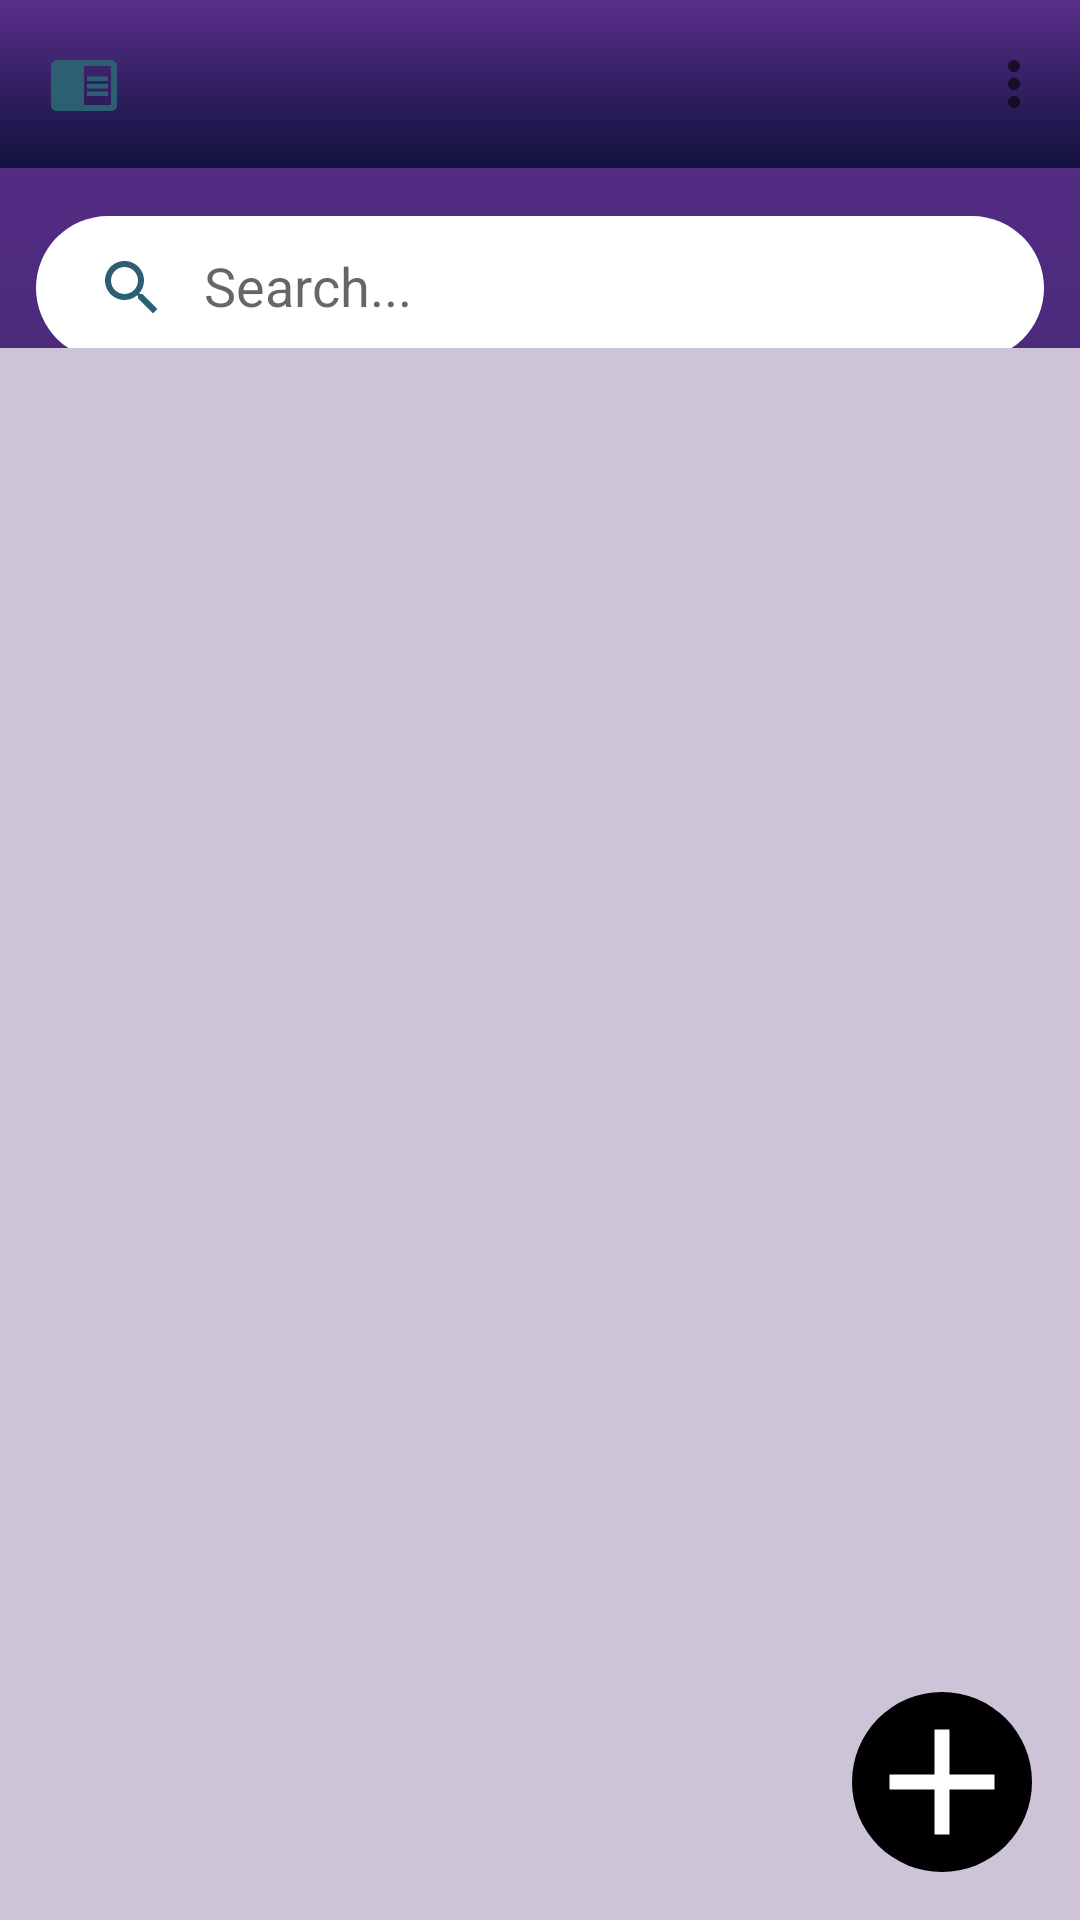

Where icons sit on this 1080px×1920px app screen, as bbox=(x1, y1, x2, y2):
add: bbox=(852, 1692, 1032, 1872)
